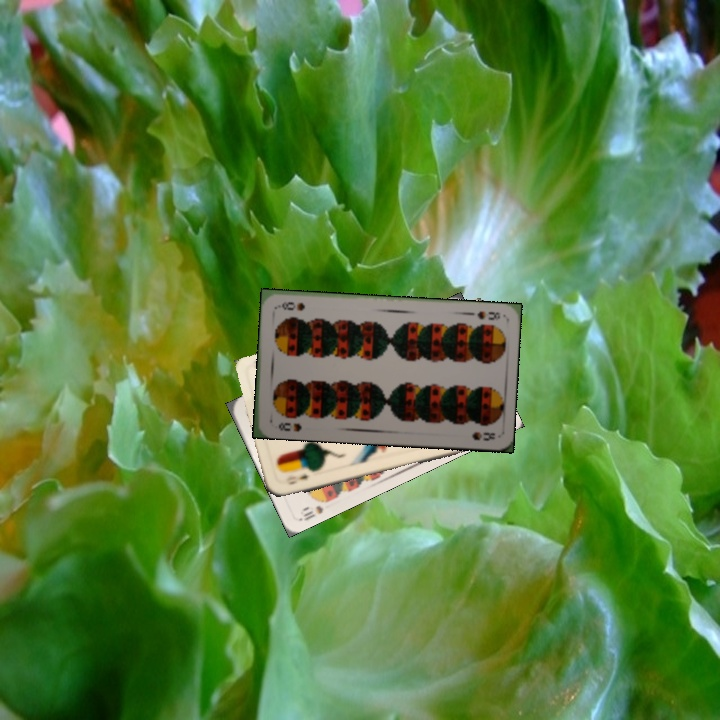EO: (282, 470, 310, 487)
S10: (296, 493, 333, 524)
S8: (274, 418, 304, 434), (473, 307, 502, 323)
